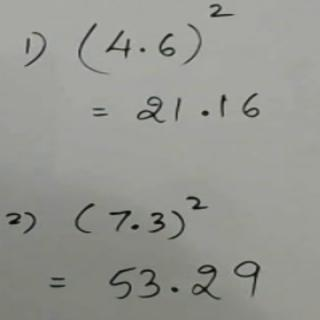.: (199, 107, 211, 119), (129, 221, 140, 233), (168, 283, 180, 294), (138, 44, 147, 54)
1: (172, 94, 184, 123), (218, 93, 229, 120), (22, 34, 31, 55)
2: (189, 263, 223, 301), (136, 95, 169, 124), (207, 2, 235, 19), (184, 194, 211, 211), (4, 210, 23, 228)
3: (138, 266, 161, 299), (146, 210, 166, 236)
4: (104, 28, 133, 59)
5: (109, 266, 137, 300)
6: (241, 91, 262, 119), (157, 31, 177, 58)
7: (106, 209, 131, 234)
9: (232, 260, 264, 299)
